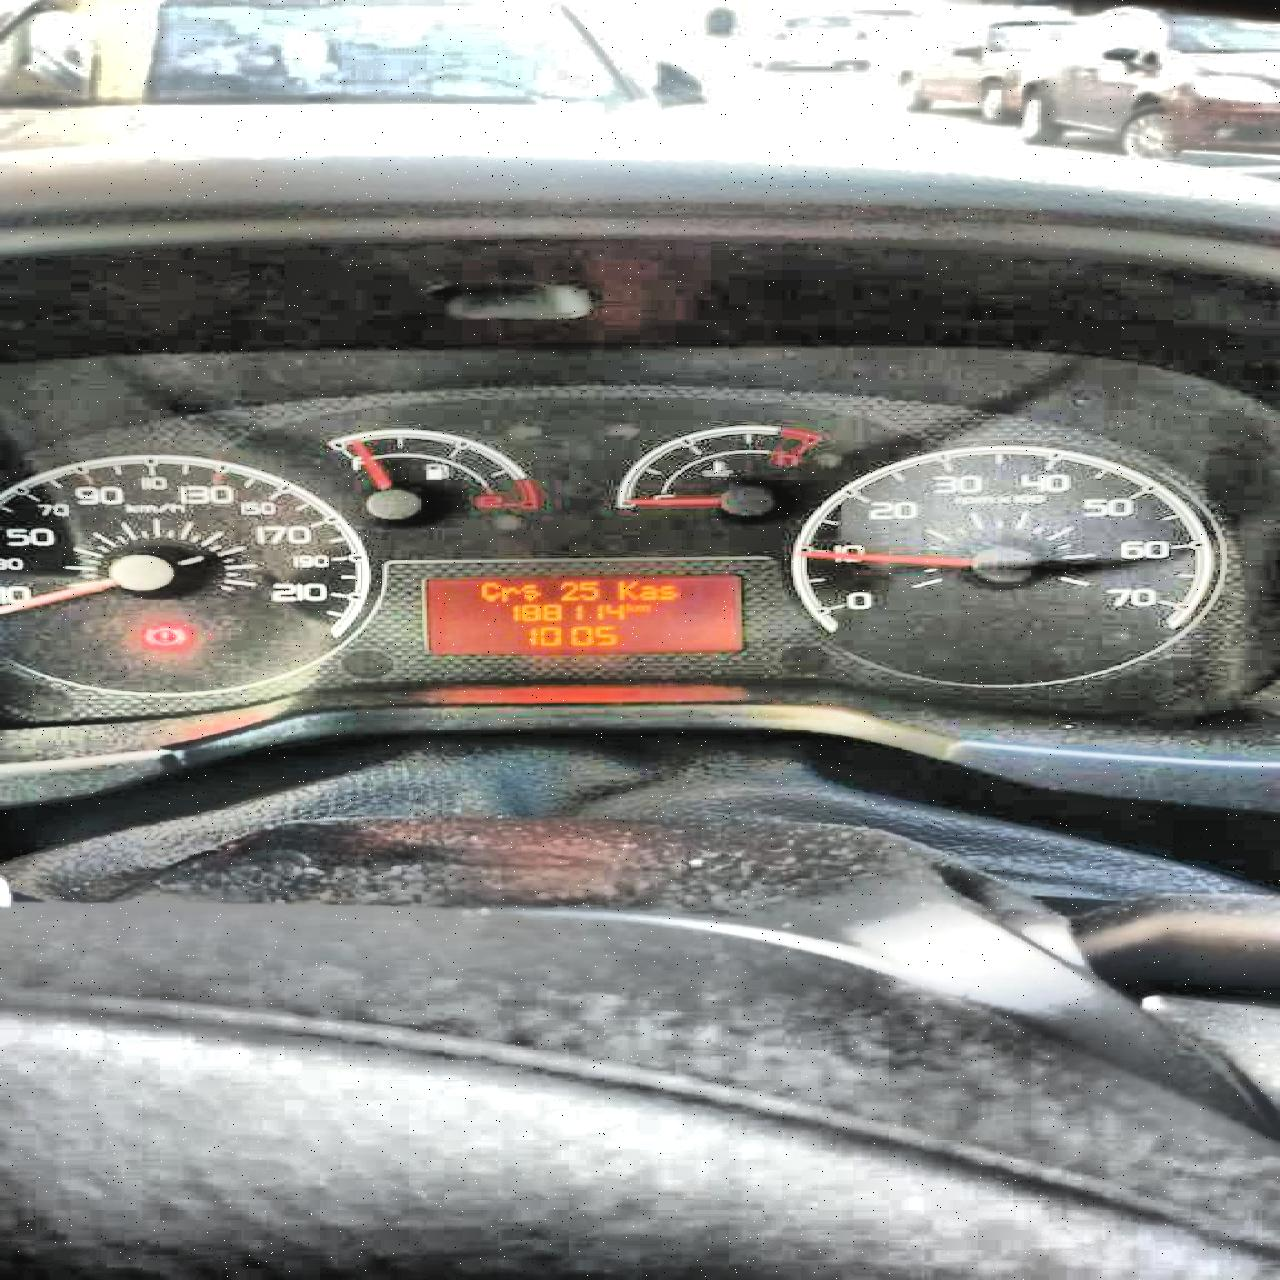0: (536, 626, 560, 645), (568, 625, 591, 645)
1: (571, 604, 583, 620), (526, 625, 536, 645), (509, 604, 518, 621), (593, 604, 602, 620)
2: (556, 581, 578, 600)
4: (602, 602, 625, 620)
5: (591, 625, 615, 645), (576, 580, 598, 600)
8: (540, 604, 560, 620), (520, 604, 538, 620)
X: (615, 579, 638, 599), (478, 581, 498, 601), (518, 584, 540, 600), (498, 586, 518, 601), (655, 584, 675, 599), (638, 585, 655, 599), (633, 604, 648, 610), (625, 601, 633, 611)
odometer: (420, 574, 742, 654)
